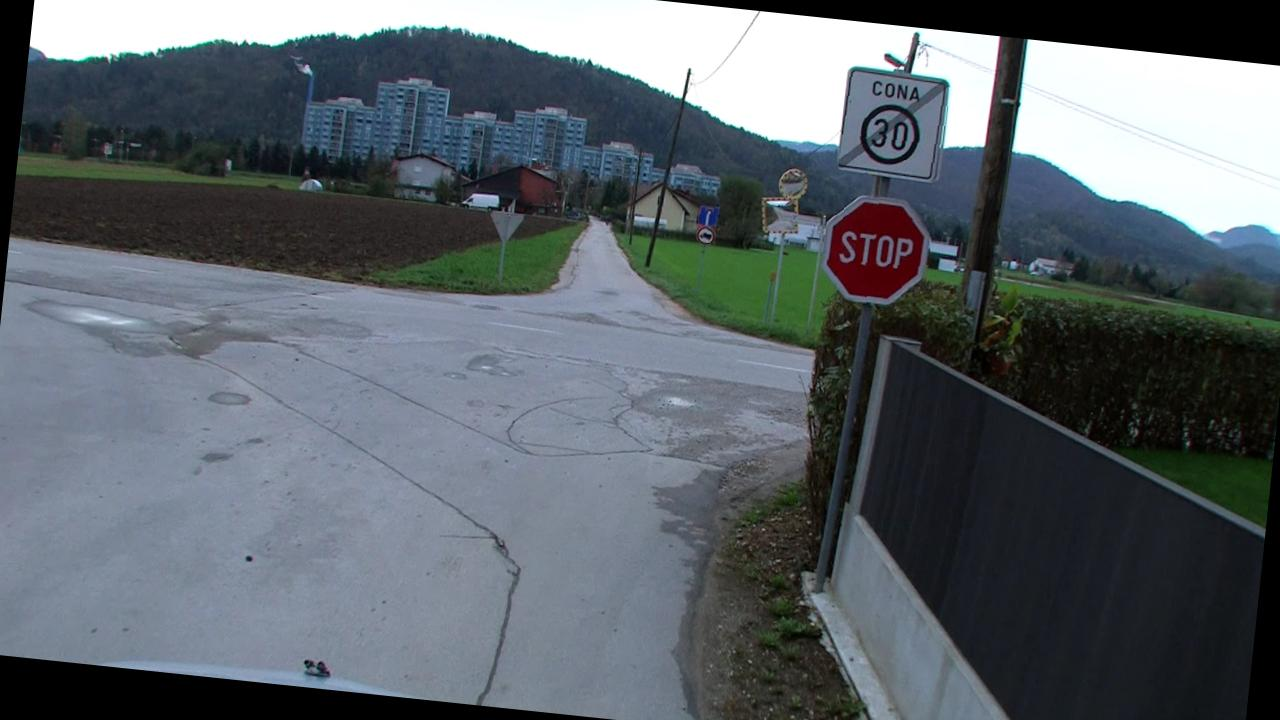Rectangle: (838, 66, 952, 183), (698, 202, 721, 229)
Round: (696, 225, 716, 243)
Stop: (817, 191, 936, 313)
